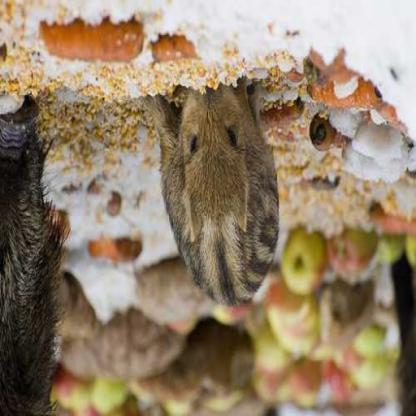boar: (130, 87, 320, 301)
